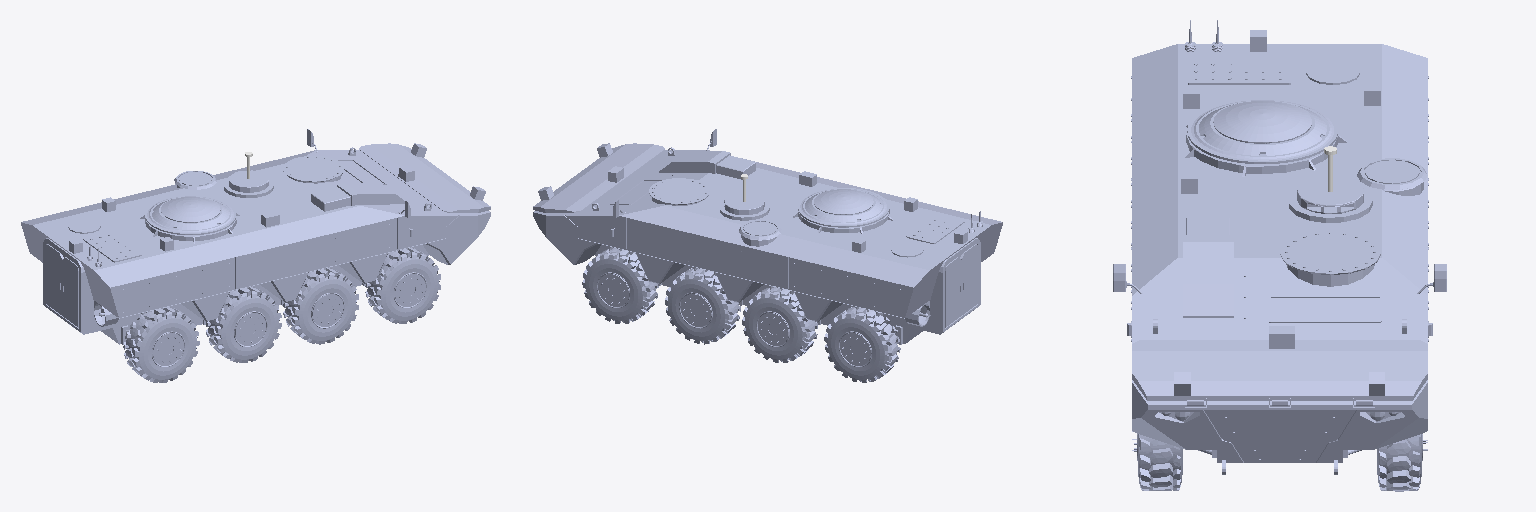
URDF robot description (dazuoye):
<?xml version="1.0" encoding="utf-8"?>
<!-- This URDF was automatically created by SolidWorks to URDF Exporter! Originally created by Stephen Brawner (brawner@gmail.com) 
     Commit Version: 1.6.0-4-g7f85cfe  Build Version: 1.6.7995.38578
     For more information, please see http://wiki.ros.org/sw_urdf_exporter -->
<robot
  name="dazuoye">
  <link
    name="base_link">
    <inertial>
      <origin
        xyz="-0.00175895322819281 -0.000186490435764575 0.115995062248732"
        rpy="0 0 0" />
      <mass
        value="40.5192970572116" />
      <inertia
        ixx="0.418864833638296"
        ixy="0.00162028052461188"
        ixz="0.0429721576576123"
        iyy="2.27038164283973"
        iyz="0.000430380682244321"
        izz="2.46685025651348" />
    </inertial>
    <visual>
      <origin
        xyz="0 0 0"
        rpy="0 0 0" />
      <geometry>
        <mesh
          filename="package://dazuoye/meshes/base_link.STL" />
      </geometry>
      <material
        name="">
        <color
          rgba="0.792156862745098 0.819607843137255 0.933333333333333 1" />
      </material>
    </visual>
    <collision>
      <origin
        xyz="0 0 0"
        rpy="0 0 0" />
      <geometry>
        <mesh
          filename="package://dazuoye/meshes/base_link.STL" />
      </geometry>
    </collision>
  </link>
  <link
    name="wheel1">
    <inertial>
      <origin
        xyz="-1.0644818360106E-12 0.0286730516007033 1.08304476498233E-11"
        rpy="0 0 0" />
      <mass
        value="0.714580930694788" />
      <inertia
        ixx="0.00108598655804473"
        ixy="-4.550163687934E-14"
        ixz="-4.83965814925678E-14"
        iyy="0.00187252944910504"
        iyz="-2.81421321092362E-13"
        izz="0.00108598655845284" />
    </inertial>
    <visual>
      <origin
        xyz="0 0 0"
        rpy="0 0 0" />
      <geometry>
        <mesh
          filename="package://dazuoye/meshes/wheel1.STL" />
      </geometry>
      <material
        name="">
        <color
          rgba="0.792156862745098 0.819607843137255 0.933333333333333 1" />
      </material>
    </visual>
    <collision>
      <origin
        xyz="0 0 0"
        rpy="0 0 0" />
      <geometry>
        <mesh
          filename="package://dazuoye/meshes/wheel1.STL" />
      </geometry>
    </collision>
  </link>
  <joint
    name="basewheel1"
    type="continuous">
    <origin
      xyz="0.26854 0.11527 0.01392"
      rpy="0 0 0" />
    <parent
      link="base_link" />
    <child
      link="wheel1" />
    <axis
      xyz="0 1 0" />
  </joint>
  <link
    name="wheel2">
    <inertial>
      <origin
        xyz="-7.93010102029257E-12 0.0286730516007033 7.45292716430868E-12"
        rpy="0 0 0" />
      <mass
        value="0.714580930694793" />
      <inertia
        ixx="0.00108598655826948"
        ixy="1.50964292814581E-13"
        ixz="-2.086997151376E-13"
        iyy="0.00187252944910505"
        iyz="-2.41823347156276E-13"
        izz="0.0010859865582281" />
    </inertial>
    <visual>
      <origin
        xyz="0 0 0"
        rpy="0 0 0" />
      <geometry>
        <mesh
          filename="package://dazuoye/meshes/wheel2.STL" />
      </geometry>
      <material
        name="">
        <color
          rgba="0.792156862745098 0.819607843137255 0.933333333333333 1" />
      </material>
    </visual>
    <collision>
      <origin
        xyz="0 0 0"
        rpy="0 0 0" />
      <geometry>
        <mesh
          filename="package://dazuoye/meshes/wheel2.STL" />
      </geometry>
    </collision>
  </link>
  <joint
    name="basewheel2"
    type="continuous">
    <origin
      xyz="0.082902 0.11527 0.01392"
      rpy="0 0 0" />
    <parent
      link="base_link" />
    <child
      link="wheel2" />
    <axis
      xyz="0 1 0" />
  </joint>
  <link
    name="wheel3">
    <inertial>
      <origin
        xyz="-7.58587637150754E-12 0.0286730516007032 7.80336906203161E-12"
        rpy="0 0 0" />
      <mass
        value="0.71458093069479" />
      <inertia
        ixx="0.0010859865582506"
        ixy="1.39909924700248E-13"
        ixz="-2.09710418176823E-13"
        iyy="0.00187252944910504"
        iyz="-2.48381640199769E-13"
        izz="0.00108598655824698" />
    </inertial>
    <visual>
      <origin
        xyz="0 0 0"
        rpy="0 0 0" />
      <geometry>
        <mesh
          filename="package://dazuoye/meshes/wheel3.STL" />
      </geometry>
      <material
        name="">
        <color
          rgba="0.792156862745098 0.819607843137255 0.933333333333333 1" />
      </material>
    </visual>
    <collision>
      <origin
        xyz="0 0 0"
        rpy="0 0 0" />
      <geometry>
        <mesh
          filename="package://dazuoye/meshes/wheel3.STL" />
      </geometry>
    </collision>
  </link>
  <joint
    name="basewheel3"
    type="continuous">
    <origin
      xyz="-0.0914568223831851 0.115269623915386 0.0139204893834225"
      rpy="0 0 0" />
    <parent
      link="base_link" />
    <child
      link="wheel3" />
    <axis
      xyz="0 1 0" />
  </joint>
  <link
    name="wheel4">
    <inertial>
      <origin
        xyz="-9.15922893085508E-12 0.0286730516007033 -5.87768722581927E-12"
        rpy="0 0 0" />
      <mass
        value="0.714580930694786" />
      <inertia
        ixx="0.00108598655832907"
        ixy="2.71289140693276E-13"
        ixz="1.93745890179042E-13"
        iyy="0.00187252944910504"
        iyz="8.75733639285554E-14"
        izz="0.0010859865581685" />
    </inertial>
    <visual>
      <origin
        xyz="0 0 0"
        rpy="0 0 0" />
      <geometry>
        <mesh
          filename="package://dazuoye/meshes/wheel4.STL" />
      </geometry>
      <material
        name="">
        <color
          rgba="0.792156862745098 0.819607843137255 0.933333333333333 1" />
      </material>
    </visual>
    <collision>
      <origin
        xyz="0 0 0"
        rpy="0 0 0" />
      <geometry>
        <mesh
          filename="package://dazuoye/meshes/wheel4.STL" />
      </geometry>
    </collision>
  </link>
  <joint
    name="basewheel4"
    type="continuous">
    <origin
      xyz="-0.277097503920895 0.115269623915386 0.0139204893834225"
      rpy="0 0 0" />
    <parent
      link="base_link" />
    <child
      link="wheel4" />
    <axis
      xyz="0 1 0" />
  </joint>
  <link
    name="rotor1">
    <inertial>
      <origin
        xyz="4.92247885341968E-07 8.92687138320802E-07 -0.0238299573571413"
        rpy="0 0 0" />
      <mass
        value="0.00242869019068173" />
      <inertia
        ixx="2.38168822449135E-07"
        ixy="-1.03335169620103E-11"
        ixz="3.41439680017416E-11"
        iyy="2.38156779310724E-07"
        iyz="5.83744762677936E-11"
        izz="1.69923583745475E-07" />
    </inertial>
    <visual>
      <origin
        xyz="0 0 0"
        rpy="0 0 0" />
      <geometry>
        <mesh
          filename="package://dazuoye/meshes/rotor1.STL" />
      </geometry>
      <material
        name="">
        <color
          rgba="0.792156862745098 0.819607843137255 0.933333333333333 1" />
      </material>
    </visual>
    <collision>
      <origin
        xyz="0 0 0"
        rpy="0 0 0" />
      <geometry>
        <mesh
          filename="package://dazuoye/meshes/rotor1.STL" />
      </geometry>
    </collision>
  </link>
  <joint
    name="baserotor1"
    type="continuous">
    <origin
      xyz="-0.36115 0.098652 0.086928"
      rpy="-1.5708 1.4381 -1.5708" />
    <parent
      link="base_link" />
    <child
      link="rotor1" />
    <axis
      xyz="0 0 1" />
  </joint>
  <link
    name="rotor2">
    <inertial>
      <origin
        xyz="9.1956E-09 -8.043E-09 0.015719"
        rpy="0 0 0" />
      <mass
        value="0.0024284" />
      <inertia
        ixx="2.3804E-07"
        ixy="-2.8435E-13"
        ixz="8.9446E-13"
        iyy="2.3803E-07"
        iyz="3.4364E-12"
        izz="1.699E-07" />
    </inertial>
    <visual>
      <origin
        xyz="0 0 0"
        rpy="0 0 0" />
      <geometry>
        <mesh
          filename="package://dazuoye/meshes/rotor2.STL" />
      </geometry>
      <material
        name="">
        <color
          rgba="0.79216 0.81961 0.93333 1" />
      </material>
    </visual>
    <collision>
      <origin
        xyz="0 0 0"
        rpy="0 0 0" />
      <geometry>
        <mesh
          filename="package://dazuoye/meshes/rotor2.STL" />
      </geometry>
    </collision>
  </link>
  <joint
    name="baserotor2"
    type="continuous">
    <origin
      xyz="-0.36141 -0.098469 0.086928"
      rpy="1.5708 0.49836 -1.5708" />
    <parent
      link="base_link" />
    <child
      link="rotor2" />
    <axis
      xyz="0 0 1" />
  </joint>
  <link
    name="wheel5">
    <inertial>
      <origin
        xyz="1.0233E-11 0.032043 -3.7053E-12"
        rpy="0 0 0" />
      <mass
        value="0.71458" />
      <inertia
        ixx="0.001086"
        ixy="2.8394E-13"
        ixz="-1.4014E-13"
        iyy="0.0018725"
        iyz="-2.5388E-14"
        izz="0.001086" />
    </inertial>
    <visual>
      <origin
        xyz="0 0 0"
        rpy="0 0 0" />
      <geometry>
        <mesh
          filename="package://dazuoye/meshes/wheel5.STL" />
      </geometry>
      <material
        name="">
        <color
          rgba="0.79216 0.81961 0.93333 1" />
      </material>
    </visual>
    <collision>
      <origin
        xyz="0 0 0"
        rpy="0 0 0" />
      <geometry>
        <mesh
          filename="package://dazuoye/meshes/wheel5.STL" />
      </geometry>
    </collision>
  </link>
  <joint
    name="basewheel5"
    type="continuous">
    <origin
      xyz="0.26854 -0.1758 0.01392"
      rpy="0 0 0" />
    <parent
      link="base_link" />
    <child
      link="wheel5" />
    <axis
      xyz="0 -1 0" />
  </joint>
  <link
    name="wheel6">
    <inertial>
      <origin
        xyz="1.0232E-11 0.032043 -3.7053E-12"
        rpy="0 0 0" />
      <mass
        value="0.71458" />
      <inertia
        ixx="0.001086"
        ixy="2.8394E-13"
        ixz="-1.4014E-13"
        iyy="0.0018725"
        iyz="-2.5387E-14"
        izz="0.001086" />
    </inertial>
    <visual>
      <origin
        xyz="0 0 0"
        rpy="0 0 0" />
      <geometry>
        <mesh
          filename="package://dazuoye/meshes/wheel6.STL" />
      </geometry>
      <material
        name="">
        <color
          rgba="0.79216 0.81961 0.93333 1" />
      </material>
    </visual>
    <collision>
      <origin
        xyz="0 0 0"
        rpy="0 0 0" />
      <geometry>
        <mesh
          filename="package://dazuoye/meshes/wheel6.STL" />
      </geometry>
    </collision>
  </link>
  <joint
    name="basewheel6"
    type="continuous">
    <origin
      xyz="0.082902 -0.1758 0.01392"
      rpy="0 0 0" />
    <parent
      link="base_link" />
    <child
      link="wheel6" />
    <axis
      xyz="0 -1 0" />
  </joint>
  <link
    name="wheel7">
    <inertial>
      <origin
        xyz="1.0268E-11 0.032043 -3.6058E-12"
        rpy="0 0 0" />
      <mass
        value="0.71458" />
      <inertia
        ixx="0.001086"
        ixy="2.8417E-13"
        ixz="-1.3708E-13"
        iyy="0.0018725"
        iyz="-2.2628E-14"
        izz="0.001086" />
    </inertial>
    <visual>
      <origin
        xyz="0 0 0"
        rpy="0 0 0" />
      <geometry>
        <mesh
          filename="package://dazuoye/meshes/wheel7.STL" />
      </geometry>
      <material
        name="">
        <color
          rgba="0.79216 0.81961 0.93333 1" />
      </material>
    </visual>
    <collision>
      <origin
        xyz="0 0 0"
        rpy="0 0 0" />
      <geometry>
        <mesh
          filename="package://dazuoye/meshes/wheel7.STL" />
      </geometry>
    </collision>
  </link>
  <joint
    name="basewheel7"
    type="continuous">
    <origin
      xyz="-0.091457 -0.1758 0.01392"
      rpy="0 0 0" />
    <parent
      link="base_link" />
    <child
      link="wheel7" />
    <axis
      xyz="0 -1 0" />
  </joint>
  <link
    name="wheel8">
    <inertial>
      <origin
        xyz="1.0171E-11 0.032043 3.873E-12"
        rpy="0 0 0" />
      <mass
        value="0.71458" />
      <inertia
        ixx="0.001086"
        ixy="2.3167E-13"
        ixz="1.3361E-13"
        iyy="0.0018725"
        iyz="1.6612E-13"
        izz="0.001086" />
    </inertial>
    <visual>
      <origin
        xyz="0 0 0"
        rpy="0 0 0" />
      <geometry>
        <mesh
          filename="package://dazuoye/meshes/wheel8.STL" />
      </geometry>
      <material
        name="">
        <color
          rgba="0.79216 0.81961 0.93333 1" />
      </material>
    </visual>
    <collision>
      <origin
        xyz="0 0 0"
        rpy="0 0 0" />
      <geometry>
        <mesh
          filename="package://dazuoye/meshes/wheel8.STL" />
      </geometry>
    </collision>
  </link>
  <joint
    name="basewheel8"
    type="continuous">
    <origin
      xyz="-0.2771 -0.1758 0.01392"
      rpy="0 0 0" />
    <parent
      link="base_link" />
    <child
      link="wheel8" />
    <axis
      xyz="0 -1 0" />
  </joint>
  <link
    name="camera1">
    <inertial>
      <origin
        xyz="1.1102E-16 -2.7756E-17 -0.01"
        rpy="0 0 0" />
      <mass
        value="0.008" />
      <inertia
        ixx="5.3333E-07"
        ixy="-3.2032E-24"
        ixz="-1.7514E-23"
        iyy="5.3333E-07"
        iyz="2.7793E-22"
        izz="5.3333E-07" />
    </inertial>
    <visual>
      <origin
        xyz="0 0 0"
        rpy="0 0 0" />
      <geometry>
        <mesh
          filename="package://dazuoye/meshes/camera1.STL" />
      </geometry>
      <material
        name="">
        <color
          rgba="0.79216 0.81961 0.93333 1" />
      </material>
    </visual>
    <collision>
      <origin
        xyz="0 0 0"
        rpy="0 0 0" />
      <geometry>
        <mesh
          filename="package://dazuoye/meshes/camera1.STL" />
      </geometry>
    </collision>
  </link>
  <joint
    name="basecamera1"
    type="fixed">
    <origin
      xyz="0.45559 -0.11491 0.16762"
      rpy="-0.37998 0 -1.5708" />
    <parent
      link="base_link" />
    <child
      link="camera1" />
    <axis
      xyz="0 0 0" />
  </joint>
  <link
    name="camera2">
    <inertial>
      <origin
        xyz="0 -1.1102E-16 -0.01"
        rpy="0 0 0" />
      <mass
        value="0.008" />
      <inertia
        ixx="5.3333E-07"
        ixy="1.8003E-23"
        ixz="3.9705E-23"
        iyy="5.3333E-07"
        iyz="7.1463E-23"
        izz="5.3333E-07" />
    </inertial>
    <visual>
      <origin
        xyz="0 0 0"
        rpy="0 0 0" />
      <geometry>
        <mesh
          filename="package://dazuoye/meshes/camera2.STL" />
      </geometry>
      <material
        name="">
        <color
          rgba="0.79216 0.81961 0.93333 1" />
      </material>
    </visual>
    <collision>
      <origin
        xyz="0 0 0"
        rpy="0 0 0" />
      <geometry>
        <mesh
          filename="package://dazuoye/meshes/camera2.STL" />
      </geometry>
    </collision>
  </link>
  <joint
    name="basecamera2"
    type="fixed">
    <origin
      xyz="0.45552 0.11509 0.16765"
      rpy="0 0.37998 0" />
    <parent
      link="base_link" />
    <child
      link="camera2" />
    <axis
      xyz="0 0 0" />
  </joint>
  <link
    name="camera3">
    <inertial>
      <origin
        xyz="-1.1102E-16 1.1102E-16 -0.01"
        rpy="0 0 0" />
      <mass
        value="0.008" />
      <inertia
        ixx="5.3333E-07"
        ixy="1.1306E-23"
        ixz="-3.1702E-24"
        iyy="5.3333E-07"
        iyz="-7.5375E-24"
        izz="5.3333E-07" />
    </inertial>
    <visual>
      <origin
        xyz="0 0 0"
        rpy="0 0 0" />
      <geometry>
        <mesh
          filename="package://dazuoye/meshes/camera3.STL" />
      </geometry>
      <material
        name="">
        <color
          rgba="0.79216 0.81961 0.93333 1" />
      </material>
    </visual>
    <collision>
      <origin
        xyz="0 0 0"
        rpy="0 0 0" />
      <geometry>
        <mesh
          filename="package://dazuoye/meshes/camera3.STL" />
      </geometry>
    </collision>
  </link>
  <joint
    name="basecamera3"
    type="fixed">
    <origin
      xyz="-0.25161 0.10928 0.21753"
      rpy="0 0 0" />
    <parent
      link="base_link" />
    <child
      link="camera3" />
    <axis
      xyz="0 0 0" />
  </joint>
  <link
    name="camera4">
    <inertial>
      <origin
        xyz="0.033038 -0.22043 0.19361"
        rpy="0 0 0" />
      <mass
        value="0.008" />
      <inertia
        ixx="5.3333E-07"
        ixy="1.1306E-23"
        ixz="-3.1702E-24"
        iyy="5.3333E-07"
        iyz="-7.5375E-24"
        izz="5.3333E-07" />
    </inertial>
    <visual>
      <origin
        xyz="0 0 0"
        rpy="0 0 0" />
      <geometry>
        <mesh
          filename="package://dazuoye/meshes/camera4.STL" />
      </geometry>
      <material
        name="">
        <color
          rgba="0.79216 0.81961 0.93333 1" />
      </material>
    </visual>
    <collision>
      <origin
        xyz="0 0 0"
        rpy="0 0 0" />
      <geometry>
        <mesh
          filename="package://dazuoye/meshes/camera4.STL" />
      </geometry>
    </collision>
  </link>
  <joint
    name="basecamera4"
    type="fixed">
    <origin
      xyz="-0.2771 0.11527 0.01392"
      rpy="0 0 0" />
    <parent
      link="base_link" />
    <child
      link="camera4" />
    <axis
      xyz="0 0 0" />
  </joint>
  <link
    name="camera5">
    <inertial>
      <origin
        xyz="1.1102E-16 -1.1102E-16 -0.01"
        rpy="0 0 0" />
      <mass
        value="0.008" />
      <inertia
        ixx="5.3333E-07"
        ixy="1.1306E-23"
        ixz="3.1702E-24"
        iyy="5.3333E-07"
        iyz="7.5375E-24"
        izz="5.3333E-07" />
    </inertial>
    <visual>
      <origin
        xyz="0 0 0"
        rpy="0 0 0" />
      <geometry>
        <mesh
          filename="package://dazuoye/meshes/camera5.STL" />
      </geometry>
      <material
        name="">
        <color
          rgba="0.79216 0.81961 0.93333 1" />
      </material>
    </visual>
    <collision>
      <origin
        xyz="0 0 0"
        rpy="0 0 0" />
      <geometry>
        <mesh
          filename="package://dazuoye/meshes/camera5.STL" />
      </geometry>
    </collision>
  </link>
  <joint
    name="basecamera5"
    type="fixed">
    <origin
      xyz="-0.40416 0.061899 0.21753"
      rpy="0 0 3.1416" />
    <parent
      link="base_link" />
    <child
      link="camera5" />
    <axis
      xyz="0 0 0" />
  </joint>
  <link
    name="camera6">
    <inertial>
      <origin
        xyz="0 0 -0.01"
        rpy="0 0 0" />
      <mass
        value="0.008" />
      <inertia
        ixx="5.3333E-07"
        ixy="1.1306E-23"
        ixz="3.1702E-24"
        iyy="5.3333E-07"
        iyz="7.5375E-24"
        izz="5.3333E-07" />
    </inertial>
    <visual>
      <origin
        xyz="0 0 0"
        rpy="0 0 0" />
      <geometry>
        <mesh
          filename="package://dazuoye/meshes/camera6.STL" />
      </geometry>
      <material
        name="">
        <color
          rgba="0.79216 0.81961 0.93333 1" />
      </material>
    </visual>
    <collision>
      <origin
        xyz="0 0 0"
        rpy="0 0 0" />
      <geometry>
        <mesh
          filename="package://dazuoye/meshes/camera6.STL" />
      </geometry>
    </collision>
  </link>
  <joint
    name="basecamera"
    type="fixed">
    <origin
      xyz="-0.40324 -0.024933 0.21753"
      rpy="0 0 3.1416" />
    <parent
      link="base_link" />
    <child
      link="camera6" />
    <axis
      xyz="0 0 0" />
  </joint>
  <link
    name="kinect1">
    <inertial>
      <origin
        xyz="-5.5511E-17 0 -0.01"
        rpy="0 0 0" />
      <mass
        value="0.012" />
      <inertia
        ixx="8E-07"
        ixy="-8.3178E-23"
        ixz="-3.6878E-23"
        iyy="1.3E-06"
        iyz="2.3355E-39"
        izz="1.3E-06" />
    </inertial>
    <visual>
      <origin
        xyz="0 0 0"
        rpy="0 0 0" />
      <geometry>
        <mesh
          filename="package://dazuoye/meshes/kinect1.STL" />
      </geometry>
      <material
        name="">
        <color
          rgba="0.79216 0.81961 0.93333 1" />
      </material>
    </visual>
    <collision>
      <origin
        xyz="0 0 0"
        rpy="0 0 0" />
      <geometry>
        <mesh
          filename="package://dazuoye/meshes/kinect1.STL" />
      </geometry>
    </collision>
  </link>
  <joint
    name="basekinect1"
    type="fixed">
    <origin
      xyz="-0.011224 -0.10691 0.21753"
      rpy="0 0 3.1416" />
    <parent
      link="base_link" />
    <child
      link="kinect1" />
    <axis
      xyz="0 0 0" />
  </joint>
  <link
    name="kinect2">
    <inertial>
      <origin
        xyz="0 -1.3878E-17 -0.01"
        rpy="0 0 0" />
      <mass
        value="0.012" />
      <inertia
        ixx="8E-07"
        ixy="-3.7219E-23"
        ixz="-1.2128E-24"
        iyy="1.3E-06"
        iyz="2.4815E-22"
        izz="1.3E-06" />
    </inertial>
    <visual>
      <origin
        xyz="0 0 0"
        rpy="0 0 0" />
      <geometry>
        <mesh
          filename="package://dazuoye/meshes/kinect2.STL" />
      </geometry>
      <material
        name="">
        <color
          rgba="0.79216 0.81961 0.93333 1" />
      </material>
    </visual>
    <collision>
      <origin
        xyz="0 0 0"
        rpy="0 0 0" />
      <geometry>
        <mesh
          filename="package://dazuoye/meshes/kinect2.STL" />
      </geometry>
    </collision>
  </link>
  <joint
    name="basekinect2"
    type="fixed">
    <origin
      xyz="0.35971 0.002513 0.18545"
      rpy="0.03416 0 1.5708" />
    <parent
      link="base_link" />
    <child
      link="kinect2" />
    <axis
      xyz="0 0 0" />
  </joint>
  <link
    name="leida">
    <inertial>
      <origin
        xyz="0 0 0"
        rpy="0 0 0" />
      <mass
        value="0" />
      <inertia
        ixx="0"
        ixy="0"
        ixz="0"
        iyy="0"
        iyz="0"
        izz="0" />
    </inertial>
    <visual>
      <origin
        xyz="0 0 0"
        rpy="0 0 0" />
      <geometry>
        <mesh
          filename="package://dazuoye/meshes/leida.STL" />
      </geometry>
      <material
        name="">
        <color
          rgba="1 1 1 1" />
      </material>
    </visual>
    <collision>
      <origin
        xyz="0 0 0"
        rpy="0 0 0" />
      <geometry>
        <mesh
          filename="package://dazuoye/meshes/leida.STL" />
      </geometry>
    </collision>
  </link>
  <joint
    name="baseleida"
    type="fixed">
    <origin
      xyz="0.035972 0.060092 0.27144"
      rpy="1.5708 0 0" />
    <parent
      link="base_link" />
    <child
      link="leida" />
    <axis
      xyz="0 0 0" />
  </joint>
</robot>

--- Facts derived from the render (not from the file) ---
The picture shows the robot from 3 angles, left to right: view 1: azimuth 30°, elevation 25°; view 2: azimuth 150°, elevation 25°; view 3: azimuth 270°, elevation 25°; orthographic projection.
Robot: dazuoye — 20 links, 19 joints (10 continuous, 9 fixed); root link base_link; default pose: all joints at 0.
Visible links, largest first — view 1: base_link, wheel8, wheel5, wheel7, wheel6; view 2: base_link, wheel4, wheel1, wheel3, wheel2; view 3: base_link, wheel1, wheel5, kinect2.
Boxes of the visible links, bbox=[...] form: base_link: bbox=[21, 129, 490, 344]; wheel8: bbox=[123, 306, 199, 382]; wheel5: bbox=[365, 247, 440, 323]; wheel7: bbox=[206, 286, 281, 362]; wheel6: bbox=[283, 267, 358, 344]; base_link: bbox=[533, 129, 1002, 344]; wheel4: bbox=[824, 307, 900, 382]; wheel1: bbox=[582, 247, 658, 323]; wheel3: bbox=[742, 286, 817, 362]; wheel2: bbox=[665, 268, 740, 344]; base_link: bbox=[1113, 20, 1446, 474]; wheel1: bbox=[1377, 434, 1427, 491]; wheel5: bbox=[1132, 431, 1182, 490]; kinect2: bbox=[1269, 326, 1294, 348].
Bounding box of the posed robot: 0.8844 × 0.3953 × 0.3318 m (x, y, z).
Meshes: 20 distinct files referenced, 19 mesh visuals loaded (19 binary STL); not drawn: 1 (reference not matched to a file when rendering).
